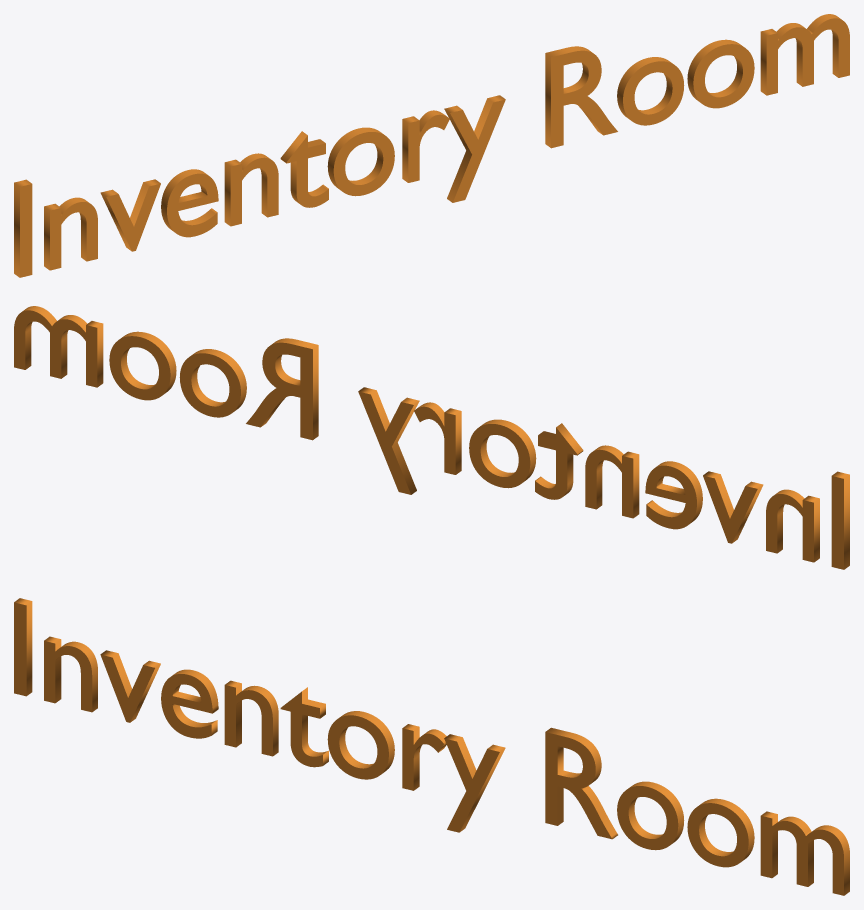
Rendered from Inventory room Text.fbx.
3 views of the same model, one above another, from view 1: azimuth 30°, elevation 25°; view 2: azimuth 150°, elevation 25°; view 3: azimuth 330°, elevation 25° (orthographic).
Parts seen in each view (by area): view 1: Text; view 2: Text; view 3: Text.
Boxes of the visible parts, x1=… form: Text: x1=14, y1=14, x2=849, y2=277; Text: x1=14, y1=306, x2=849, y2=569; Text: x1=14, y1=598, x2=849, y2=895.
Size of the model in its own units: 651 by 91.2 by 8.
